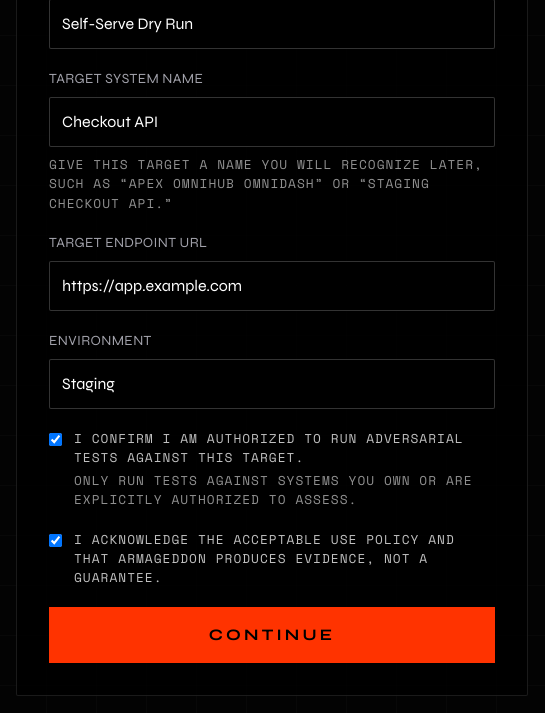
Test: OnboardingPage target endpoint flow › reuses the saved target when the URL is unchanged (no identity churn)
(page scrolled)
Check: the field labelled "Target endpoint URL" holds "https://app.example.com", box [49,261,495,311]
Click the button "Continue": (272,635) [49,607,495,663]
(page scrolled)
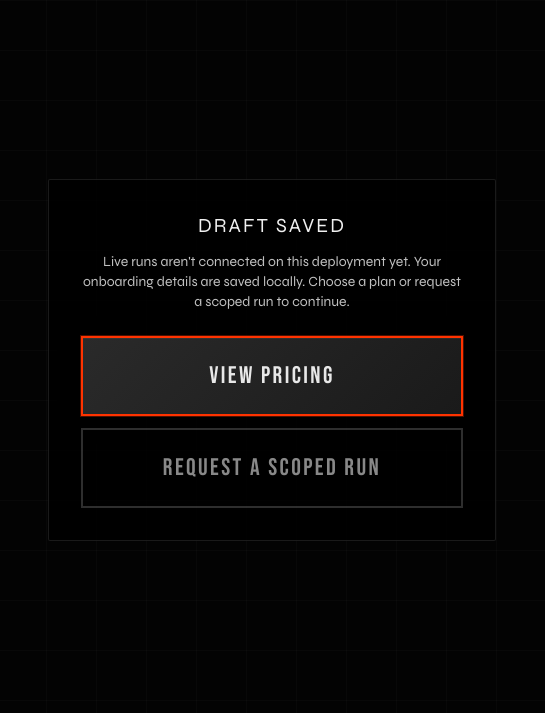
Check: the text "Live runs aren't connected" is shown, box [83,253,461,310]
